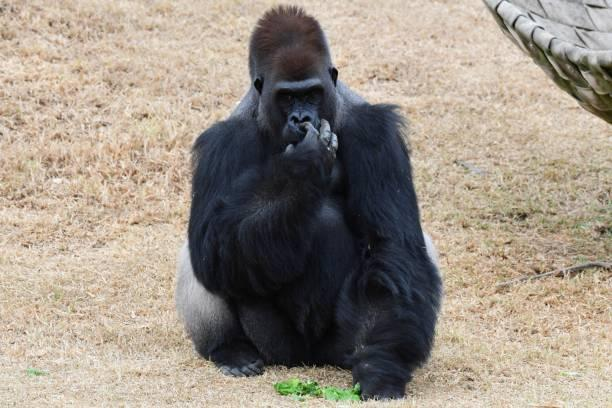goriile_montagne: (160, 0, 457, 407)
